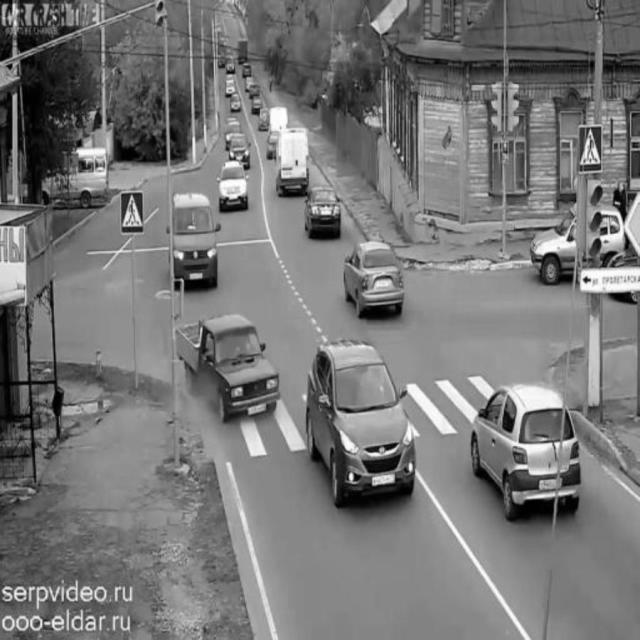vehicle: (311, 344, 414, 498), (466, 387, 577, 517), (172, 316, 280, 419), (533, 205, 629, 287), (168, 188, 216, 288), (342, 242, 408, 310), (305, 181, 342, 245), (278, 128, 310, 196), (219, 161, 249, 211), (229, 130, 251, 167), (267, 126, 284, 161), (236, 36, 251, 66), (258, 108, 273, 132), (248, 81, 264, 101), (229, 91, 243, 111), (223, 55, 237, 73)
